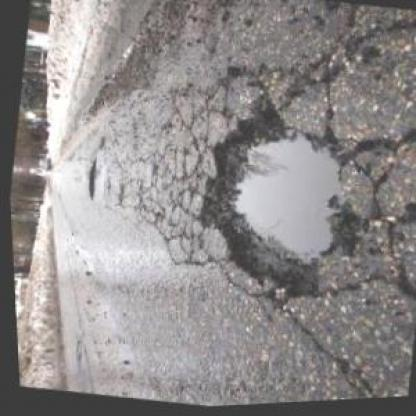pothole: (172, 86, 385, 320), (79, 157, 98, 198)
